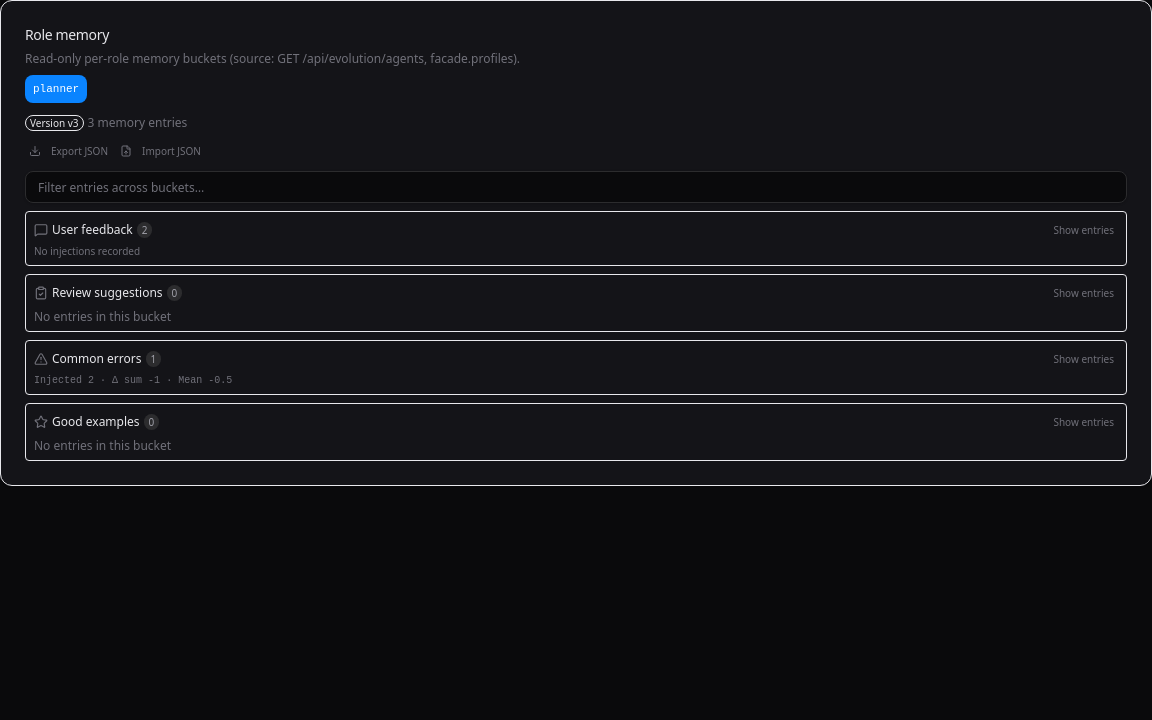
Test: memory import/export render flow › exports the active role as a JSON download (Blob + a[download])
The image size is (1152, 720).
Click the button with test id "memory-export": (68,151) [25,139,112,163]
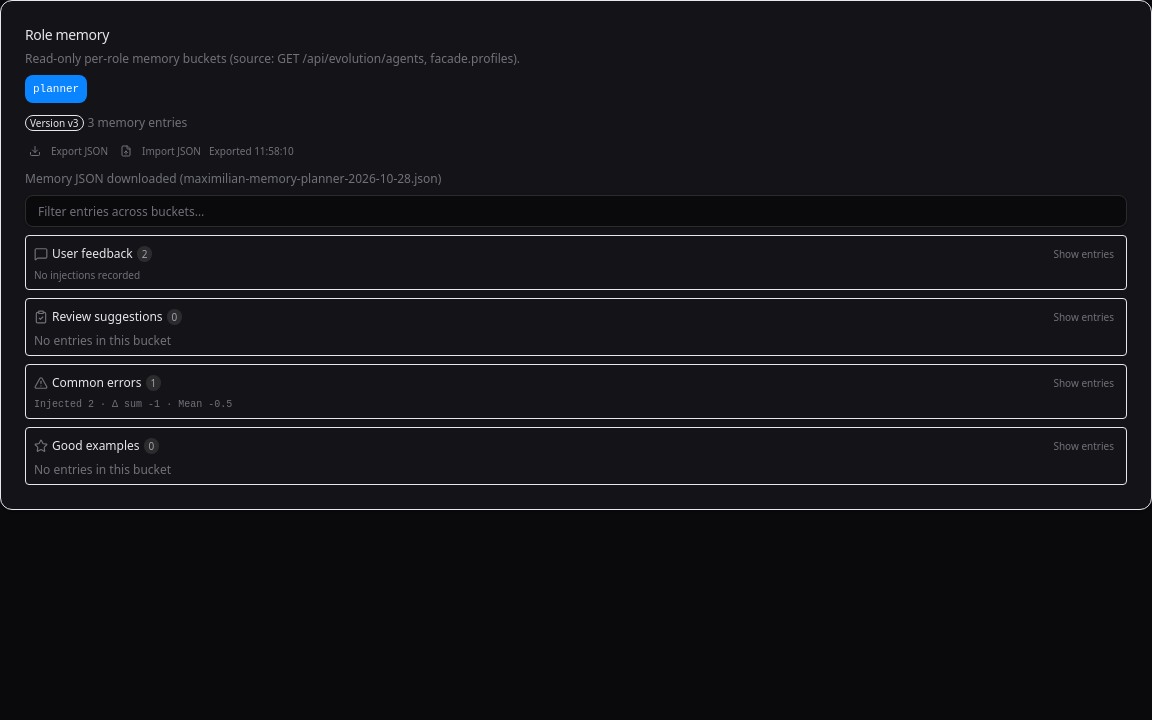
Check: the text with test id "memory-export-status" shows "downloaded", box [25,170,441,187]
